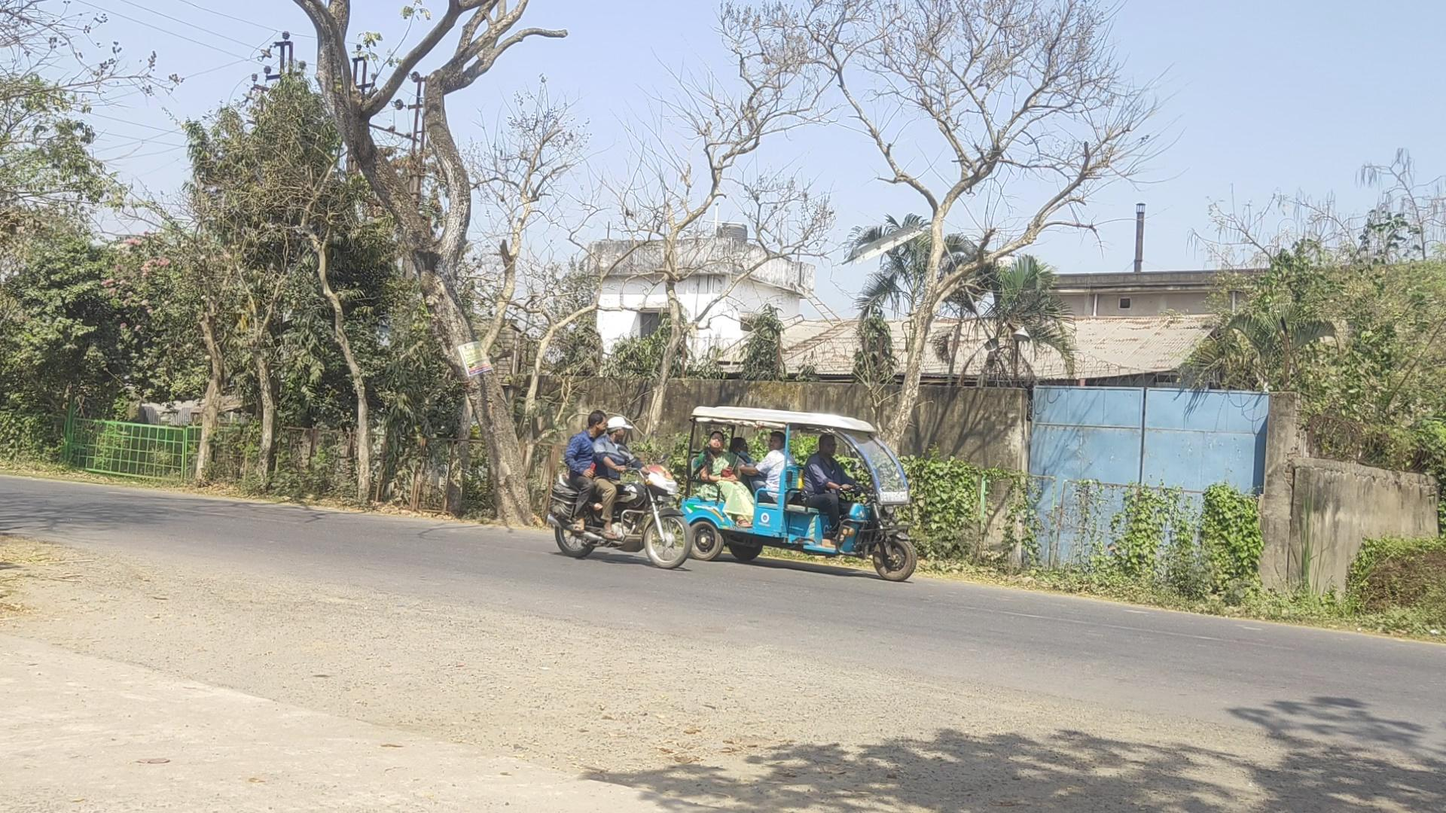Auto: (682, 406, 917, 582)
bike: (548, 410, 694, 570)
